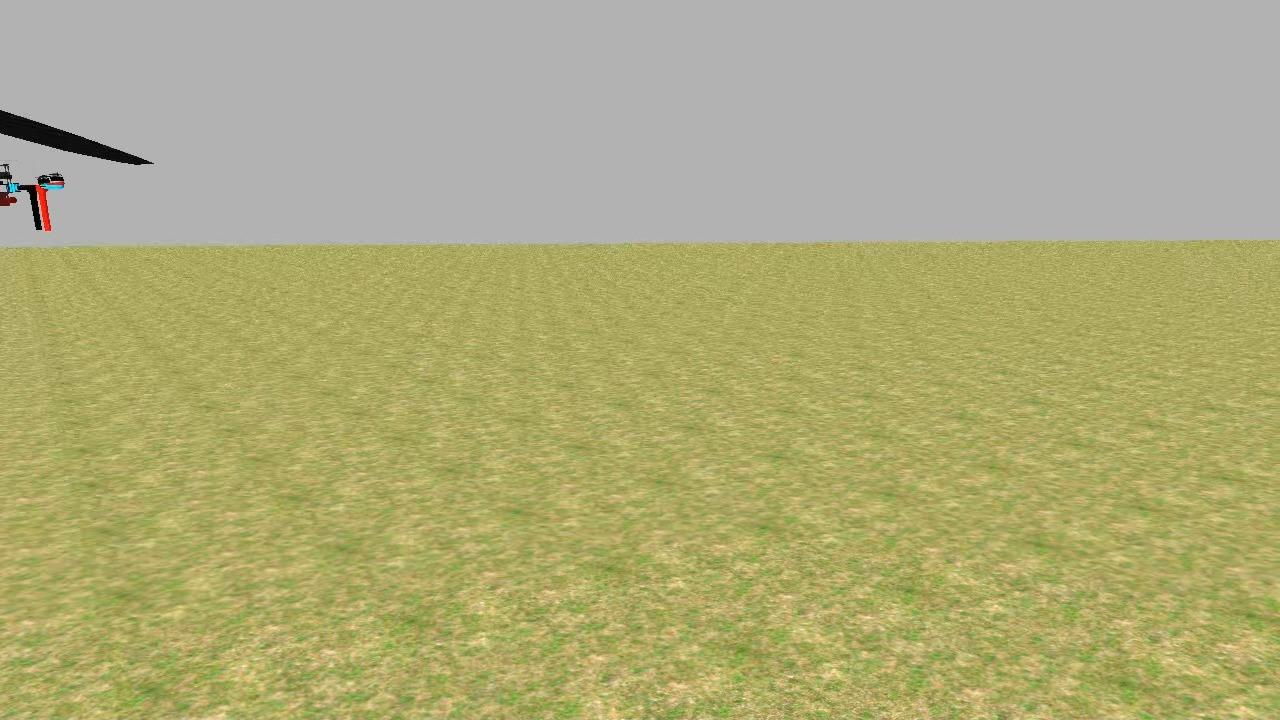UAV: (0, 147, 77, 239)
